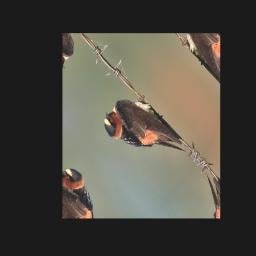Swallow: (97, 81, 192, 190)
